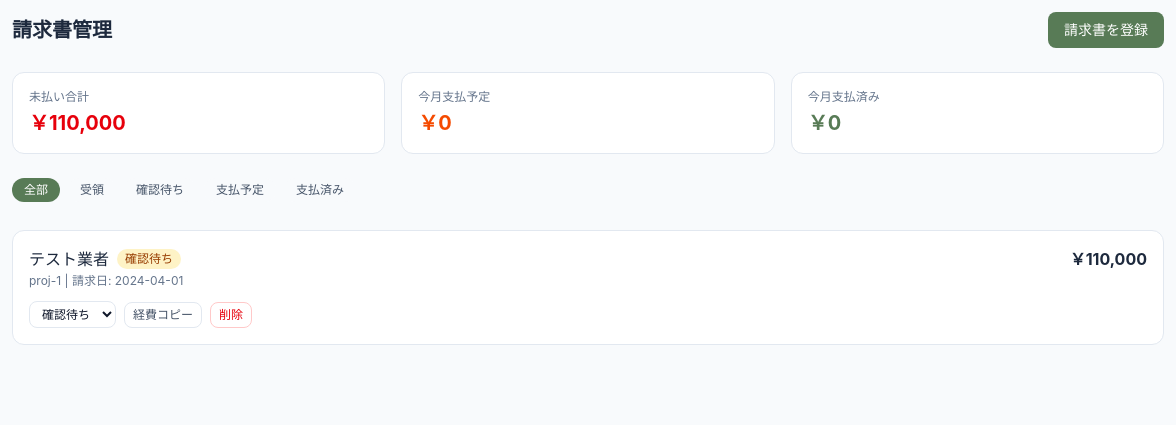
Test case: InvoiceManagementPage › フィルター適用時に一致なしでフィルター解除ボタンが表示される
The image size is (1176, 425).
Step 1. Click the button "支払済み" → x=320, y=190, box [284,178,356,202]
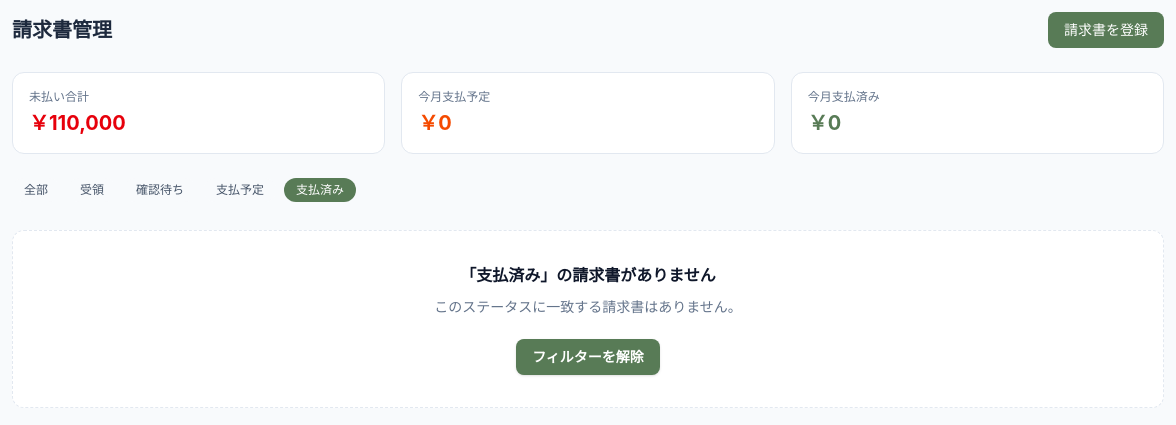
Result: the heading "「支払済み」の請求書がありません" is shown at [460,265,716,285]
Result: the button "フィルターを解除" is shown at [516,339,660,375]
